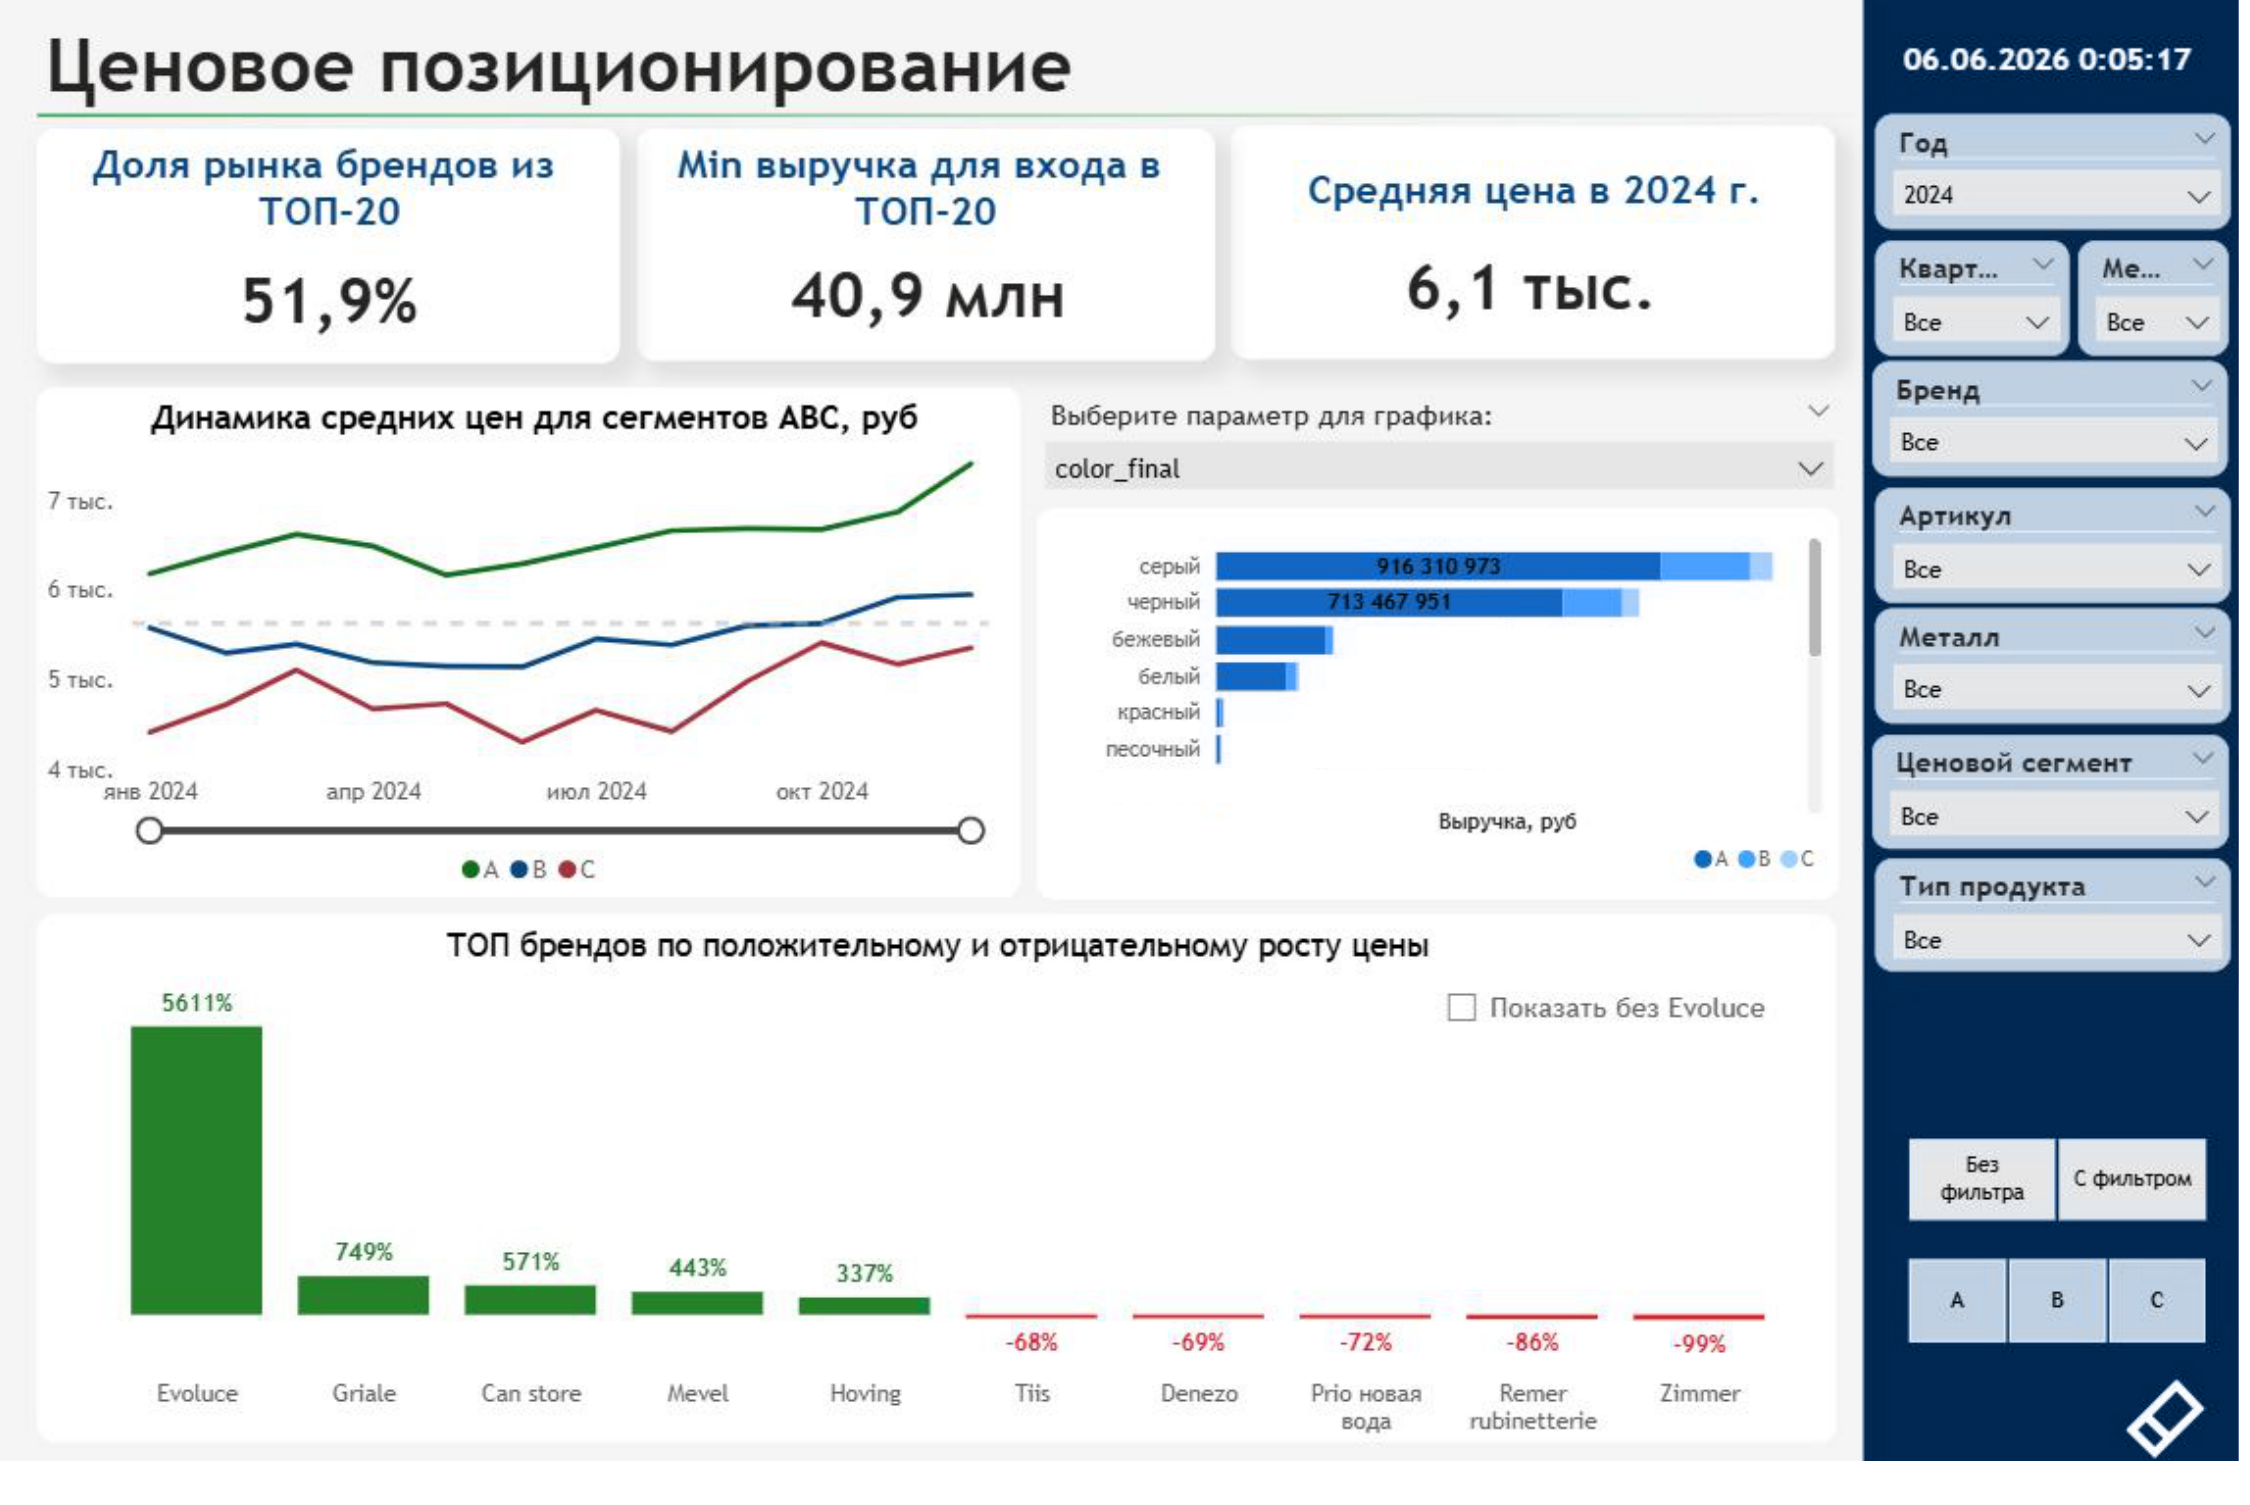

The dashboard page shown, as its layout file describes it:
{"tool":"powerbi","page":{"name":"Ценовое позиционирование","canvas":[1280,850],"ordinal":1},"visuals":[{"type":"image","box":[33.3,0,1051.7,151.7],"z":0},{"type":"shape","box":[708.3,81.7,341.7,131.7],"z":1000},{"type":"shape","box":[373,84,327,131],"z":2000},{"type":"shape","box":[33.6,83.6,330,132.7],"z":3000},{"type":"card","fields":{"Values":["Таблица мер.Доля_Топ20_брендов"]},"box":[33.3,129.2,330,87.5],"z":4000},{"type":"shape","box":[1067.5,0,212.5,850],"z":5000},{"type":"textbox","box":[33.2,15.9,1051.8,63.6],"z":6000},{"type":"slicer","fields":{"Values":["faucets_valid.year"]},"box":[1073.1,75.6,201.2,65],"z":7000},{"type":"slicer","fields":{"Values":["faucets_valid.quarter"]},"box":[1073.1,146.2,110,65],"z":8000},{"type":"card","fields":{"Values":["Таблица мер.Заголовок_3"]},"box":[32.5,70.8,330.8,85.8],"z":9000},{"type":"card","fields":{"Values":["Таблица мер.Заголовок_4"]},"box":[372.5,71.2,326.2,86.2],"z":10000},{"type":"card","fields":{"Values":["Min(Время обновления.Column1)"]},"box":[1066.9,24.4,213.1,46.2],"z":11000},{"type":"slicer","fields":{"Values":["faucets_valid.month.Изменение.Иерархия дат.Месяц"]},"box":[1188.1,146.2,85.6,65],"z":12000},{"type":"slicer","fields":{"Values":["faucets_valid.brand_clean"]},"box":[1072.5,215,201.2,65.6],"z":13000},{"type":"slicer","fields":{"Values":["faucets_valid.cat3_new"]},"box":[1067.1,647.4,212.9,60],"z":14000},{"type":"card","fields":{"Values":["Таблица мер.Порог_ТОП20"]},"box":[373.8,128.8,326.2,87.5],"z":15000},{"type":"slicer","fields":{"Values":["faucets_valid.article_name"]},"box":[1073.2,285.7,201.4,65],"z":16000},{"type":"slicer","fields":{"Values":["faucets_valid.metal_final"]},"box":[1073.3,355.2,201.4,65],"z":17000},{"type":"slicer","fields":{"Values":["faucets_valid.brand_abc"]},"box":[1067.5,716.2,212.5,61.2],"z":18000},{"type":"slicer","fields":{"Values":["faucets_valid.price_segment"]},"box":[1072.7,425.5,201.8,64.5],"z":19000},{"type":"slicer","fields":{"Values":["faucets_valid.brand_maturity"]},"box":[1072.6,496.2,202.1,64.3],"z":20000},{"type":"slicer","fields":{"Values":["faucets_valid.product_type"]},"box":[1073.6,566.4,202.1,64.3],"z":21000},{"type":"actionButton","box":[1212.5,787.5,62.5,52.5],"z":22000},{"type":"card","fields":{"Values":["Таблица мер.средняя цена"]},"box":[707.5,130,342.5,87.5],"z":23000},{"type":"card","fields":{"Values":["Таблица мер.Заголовок_5"]},"box":[708.3,83.3,343.3,68.3],"z":24000},{"type":"lineChart","title":"Динамика средних цен для сегментов ABC, руб","fields":{"Y":["Таблица мер.средняя цена"],"Category":["faucets_valid.month"],"Series":["faucets_valid.brand_abc"]},"box":[33.3,230,556.7,288.3],"z":25000},{"type":"clusteredColumnChart","title":"ТОП брендов по положительному и отрицательному росту цены","fields":{"Category":["faucets_valid.brand_clean"],"Y":["Таблица мер.Прирост YoY цены"]},"box":[33.3,528.3,1018.3,298.3],"z":26000},{"type":"slicer","fields":{"Values":["faucets_valid.Пользовательский"]},"box":[818.3,561.7,233.3,43.3],"z":27000},{"type":"barChart","fields":{"Category":["faucets_valid.brand_maturity"],"Y":["Sum(faucets_valid.revenue)"],"Series":["faucets_valid.brand_abc"]},"box":[598.8,297.5,453.8,221.2],"z":28000},{"type":"slicer","fields":{"Values":["Параметр.Параметр"]},"box":[595,230,461.2,67.5],"z":28001}]}

Visuals, with their boxes in screenshot pixels (x1, y1, x2, y2), scaled from the page's 1280x850 canvas onto the 2250x1505 screenshot:
image: locate(59, 0, 1907, 269)
shape: locate(1245, 145, 1846, 378)
shape: locate(656, 149, 1230, 381)
shape: locate(59, 148, 639, 383)
card - Таблица мер.Доля_Топ20_брендов: locate(59, 229, 639, 384)
shape: locate(1876, 0, 2249, 1504)
textbox: locate(58, 28, 1907, 141)
slicer - faucets_valid.year: locate(1886, 134, 2240, 249)
slicer - faucets_valid.quarter: locate(1886, 259, 2080, 374)
card - Таблица мер.Заголовок_3: locate(57, 125, 639, 277)
card - Таблица мер.Заголовок_4: locate(655, 126, 1228, 279)
card - Min(Время обновления.Column1): locate(1875, 43, 2249, 125)
slicer - faucets_valid.month.Изменение.Иерархия дат.Месяц: locate(2088, 259, 2239, 374)
slicer - faucets_valid.brand_clean: locate(1885, 381, 2239, 497)
slicer - faucets_valid.cat3_new: locate(1876, 1146, 2249, 1253)
card - Таблица мер.Порог_ТОП20: locate(657, 228, 1230, 383)
slicer - faucets_valid.article_name: locate(1886, 506, 2241, 621)
slicer - faucets_valid.metal_final: locate(1887, 629, 2241, 744)
slicer - faucets_valid.brand_abc: locate(1876, 1268, 2249, 1376)
slicer - faucets_valid.price_segment: locate(1886, 753, 2240, 868)
slicer - faucets_valid.brand_maturity: locate(1885, 879, 2241, 992)
slicer - faucets_valid.product_type: locate(1887, 1003, 2242, 1117)
actionButton: locate(2131, 1394, 2241, 1487)
card - Таблица мер.средняя цена: locate(1244, 230, 1846, 385)
card - Таблица мер.Заголовок_5: locate(1245, 147, 1849, 268)
"Динамика средних цен для сегментов ABC, руб" lineChart: locate(59, 407, 1037, 918)
"ТОП брендов по положительному и отрицательному росту цены" clusteredColumnChart: locate(59, 935, 1849, 1464)
slicer - faucets_valid.Пользовательский: locate(1438, 995, 1849, 1071)
barChart - faucets_valid.brand_maturity x Sum(faucets_valid.revenue): locate(1053, 527, 1850, 918)
slicer - Параметр.Параметр: locate(1046, 407, 1857, 527)
